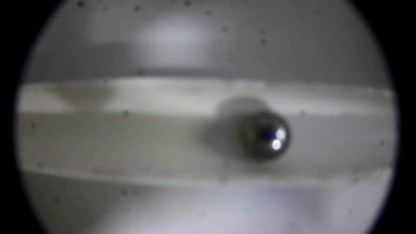gangzhu: (240, 113, 294, 160)
